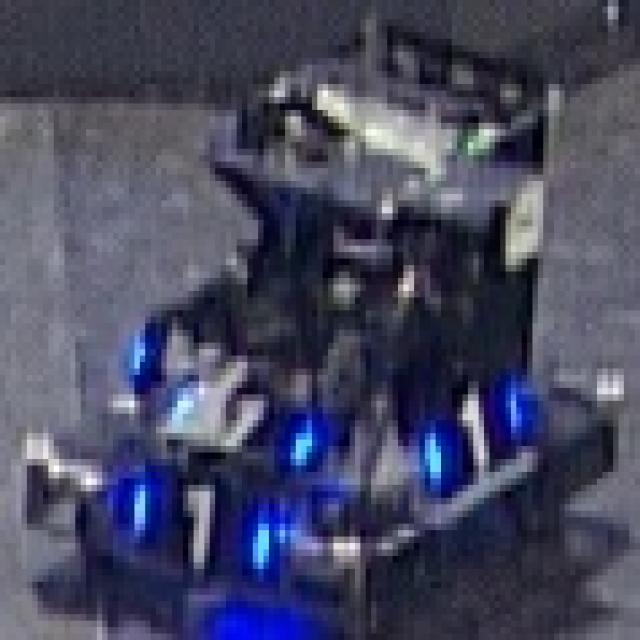B1: (115, 465, 298, 582), (178, 368, 328, 485), (401, 368, 546, 485)
